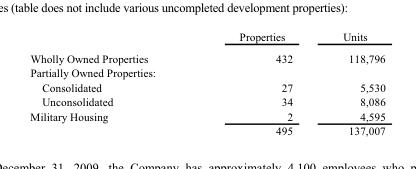table: (29, 28, 384, 137)
table column: (29, 28, 192, 137), (192, 28, 317, 137), (317, 28, 384, 137)
table column header: (29, 28, 384, 46)
table projected row header: (29, 64, 384, 79)
table row: (29, 28, 384, 46), (29, 46, 384, 64), (29, 64, 384, 79), (29, 93, 384, 108), (29, 122, 384, 137), (29, 79, 384, 93), (29, 108, 384, 122)
